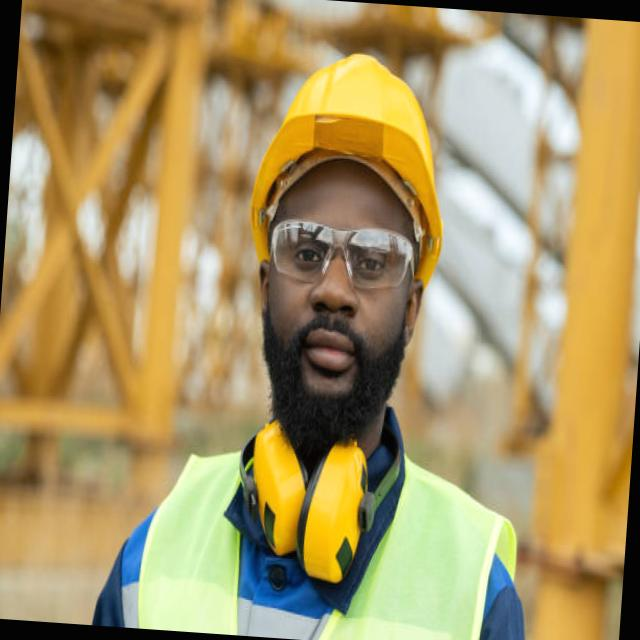goggles: (246, 210, 431, 312)
helmet: (216, 29, 454, 314)
vest: (100, 388, 582, 640)
